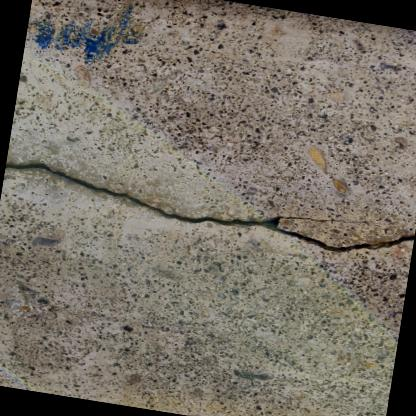crack: (4, 161, 415, 252)
